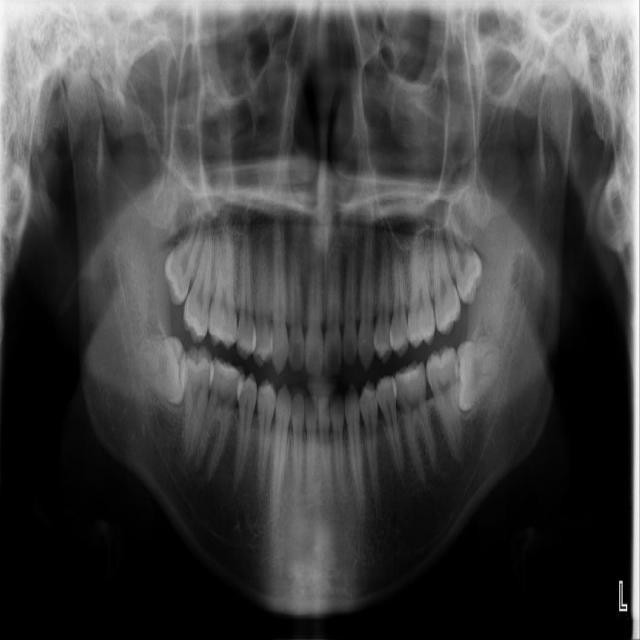3M ESPE Implant: (154, 203, 210, 308)
73: (610, 590, 614, 596)
BioHorizons Implant: (430, 218, 463, 335)
BioLife Implant: (441, 207, 489, 306)
Biomet 3i Implant: (454, 340, 503, 411)
Blue Sky Bio Implant: (425, 345, 463, 461)
Caries: (182, 221, 217, 345)
Implant: (176, 344, 215, 462)
Keystone Dental Implant: (137, 335, 191, 406)
